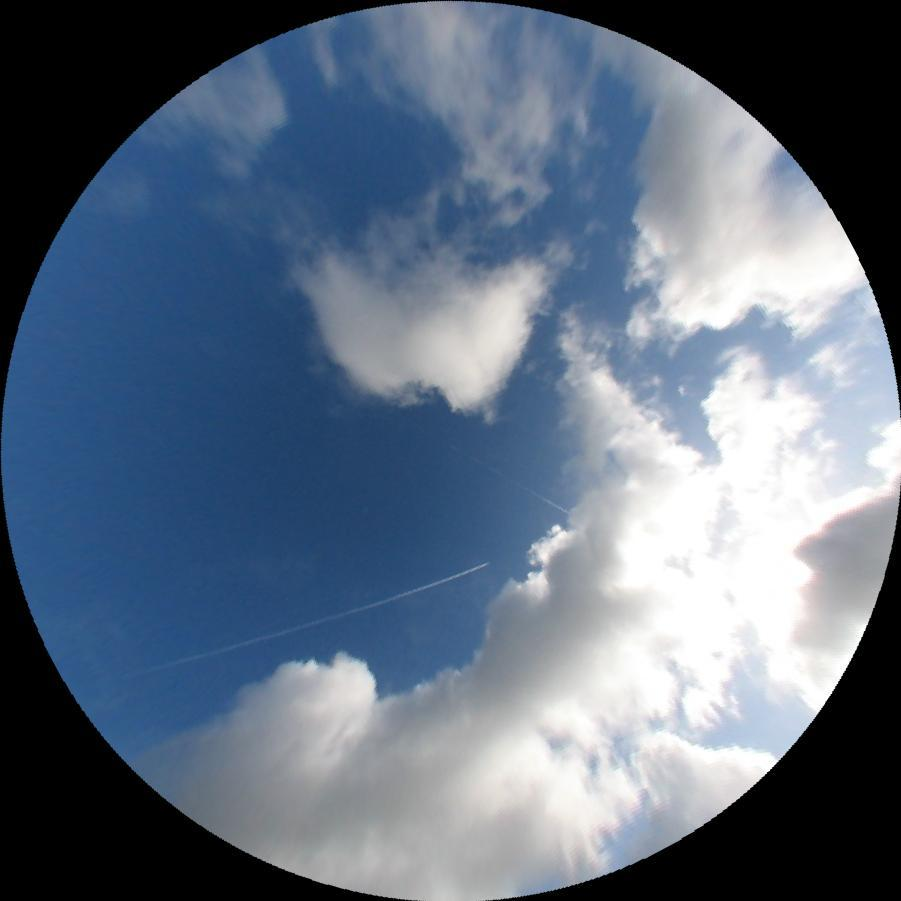contrail young: (120, 560, 491, 685), (389, 407, 568, 515)
